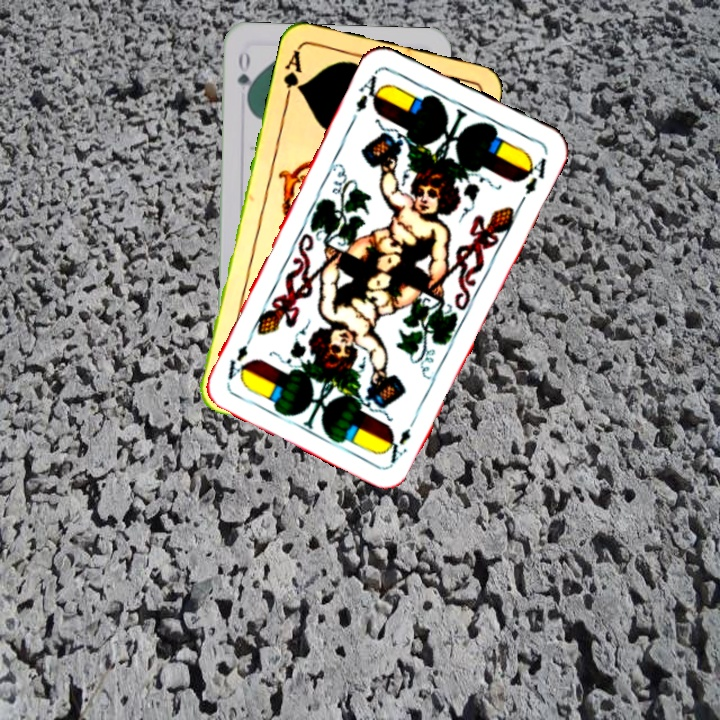EA: (381, 411, 420, 466), (351, 67, 387, 115)
GA: (279, 45, 305, 105)
GO: (233, 47, 256, 106)
